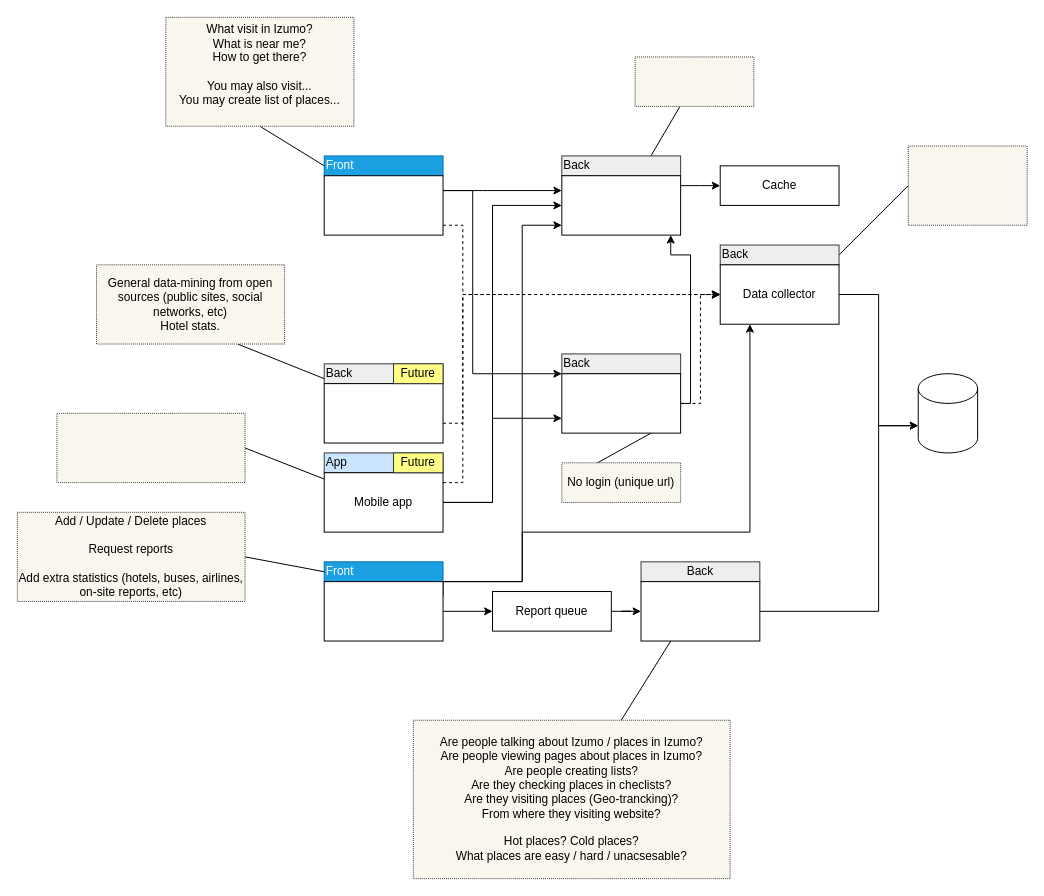
The diagram is 1044 pixels wide and 896 high, and some of its shapes have lost their labels. The centre of each missing label's shape, as x and y in pixels:
DB: (x=947, y=413)
Online spy service: (x=383, y=413)
Reference information: (x=621, y=205)
Report builder: (x=700, y=611)
Same as "Why are we here?" + extra tracking: (x=150, y=447)
Static information Recommendations Route builder: (x=694, y=81)
Statistics / Admin: (x=383, y=611)
Travel plan (or something): (x=621, y=403)
Who? From where? What? How much?: (x=967, y=185)
Why are we here?: (x=383, y=205)
